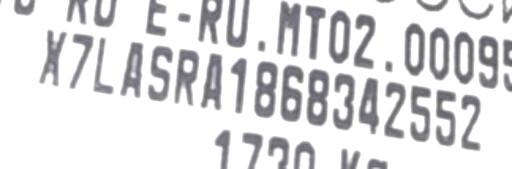letter: (35, 26, 69, 87), (116, 38, 146, 103), (172, 44, 200, 111), (197, 49, 225, 114), (64, 31, 94, 90), (145, 43, 173, 106), (380, 78, 408, 141), (251, 58, 279, 119), (92, 34, 118, 97), (278, 62, 304, 125), (305, 64, 331, 127), (330, 69, 356, 132), (355, 73, 381, 136), (457, 91, 483, 154), (432, 86, 458, 147), (408, 83, 432, 144), (227, 52, 249, 117)
